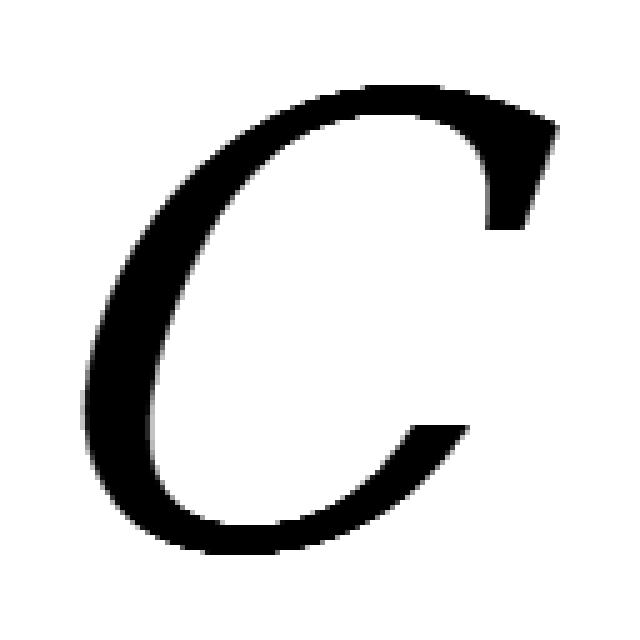C: (85, 85, 555, 555)
